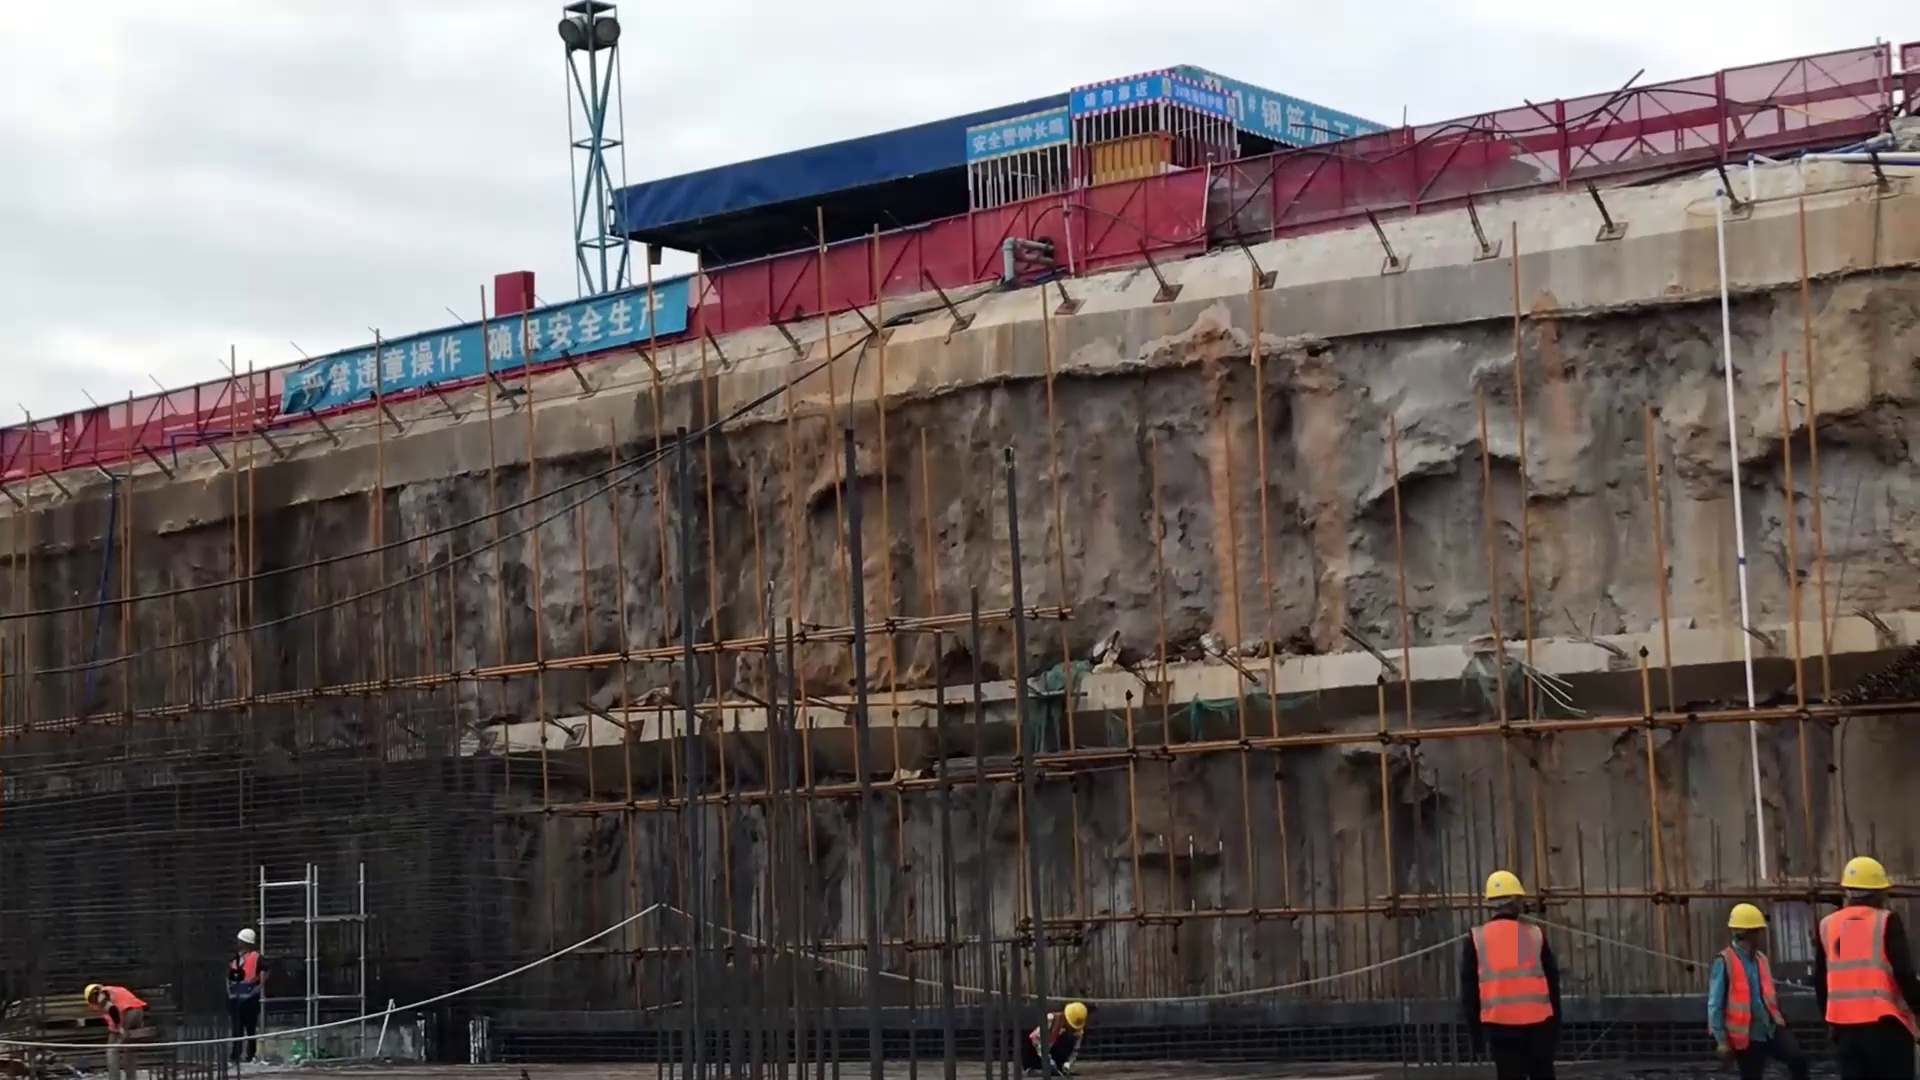helmet: (1830, 854, 1893, 894), (1483, 868, 1540, 906), (1722, 897, 1773, 936), (1058, 998, 1088, 1032), (234, 923, 263, 946)
person: (1809, 852, 1910, 1080), (1461, 868, 1563, 1080), (1701, 902, 1789, 1080), (79, 977, 147, 1080), (228, 925, 273, 1073), (1028, 993, 1085, 1080)
slogan: (273, 280, 684, 406), (961, 106, 1078, 155)
vest: (1816, 902, 1906, 1037), (1470, 915, 1555, 1026), (1710, 945, 1779, 1051), (90, 977, 145, 1026), (232, 948, 260, 996)
